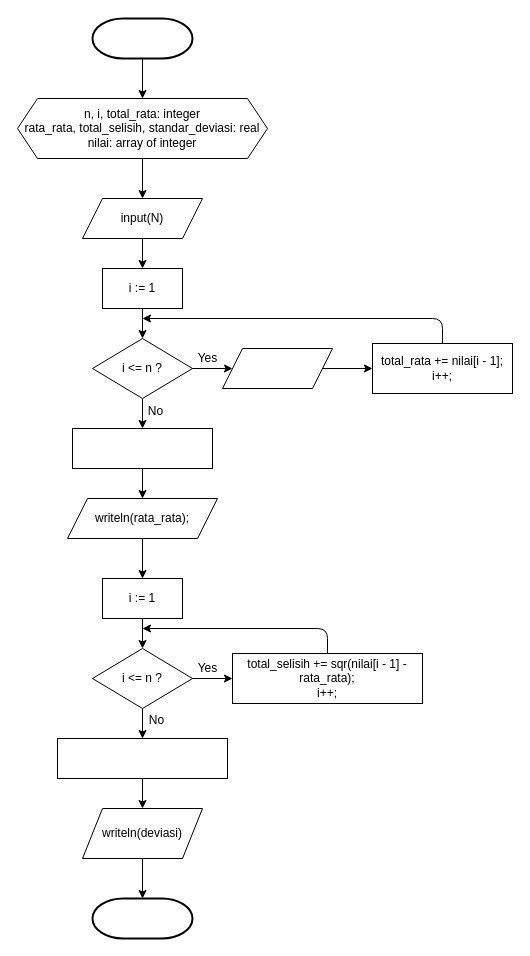
Image size: 530x956. Some labels were removed from this diagram. The shapes that lost their labels are listed below. From the top down, each one's centre as x and y in pixels, then its label:
point (142, 38): Start
point (277, 368): input(nilai[i-1])
point (142, 448): rata_rata := total_rata / n
point (142, 758): deviasi := sqrt(total_selisih / n)
point (142, 918): End.
